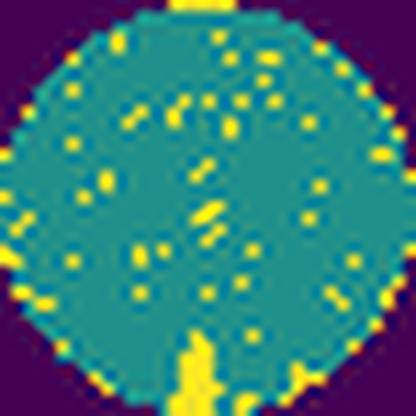Edge-Loc: (164, 325, 227, 416)
